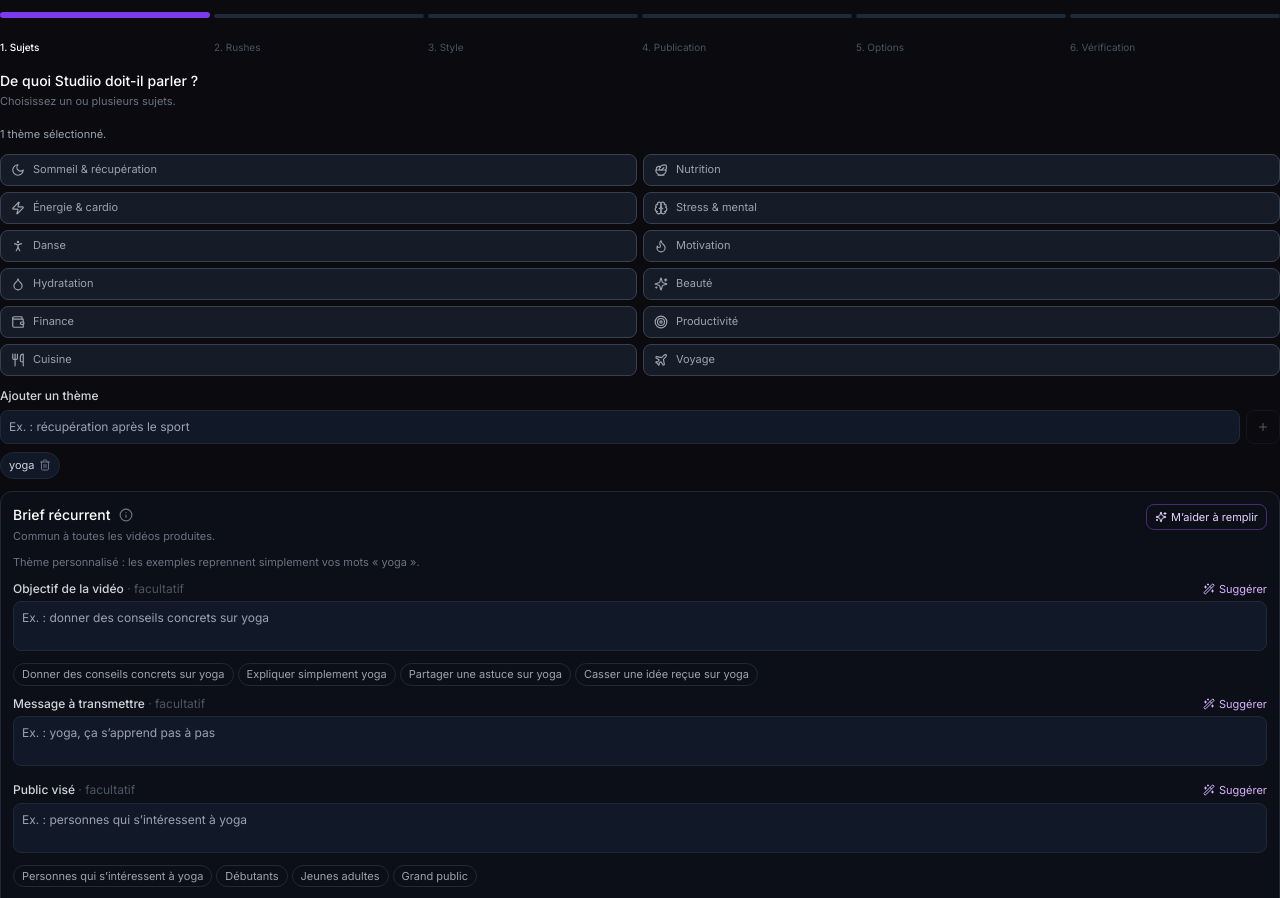
Test: G — avatar demandé, aucun avatar prêt › case inactivable, « Aucun avatar prêt », lien Configurer mon avatar
The image size is (1280, 898).
Click the button named "Rushes". click: (319, 16)
box: [214,14,424,18]
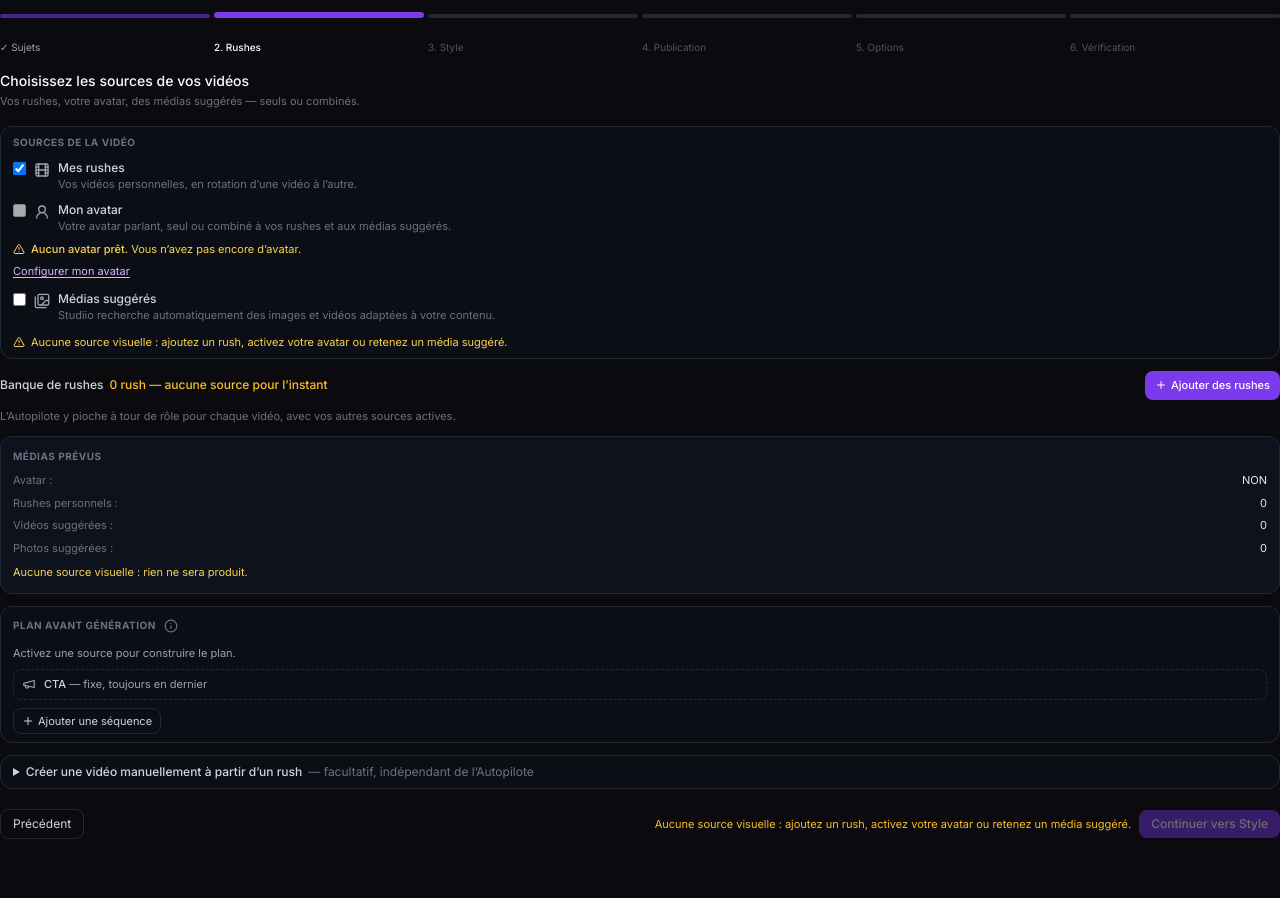
Expected: the element that starts with "Mon avatar" is shown, [13,202,451,278]
Expected: the 2nd checkbox is disabled, [13,204,26,217]
Expected: the text "Aucun avatar prêt." is shown, [31,242,128,256]
